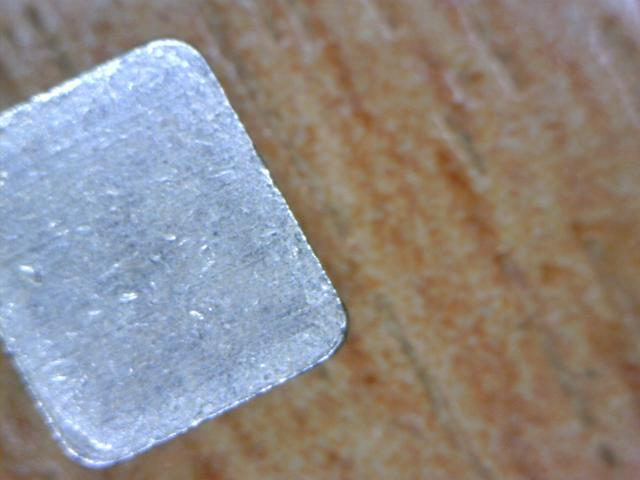ok: (15, 33, 360, 466)
